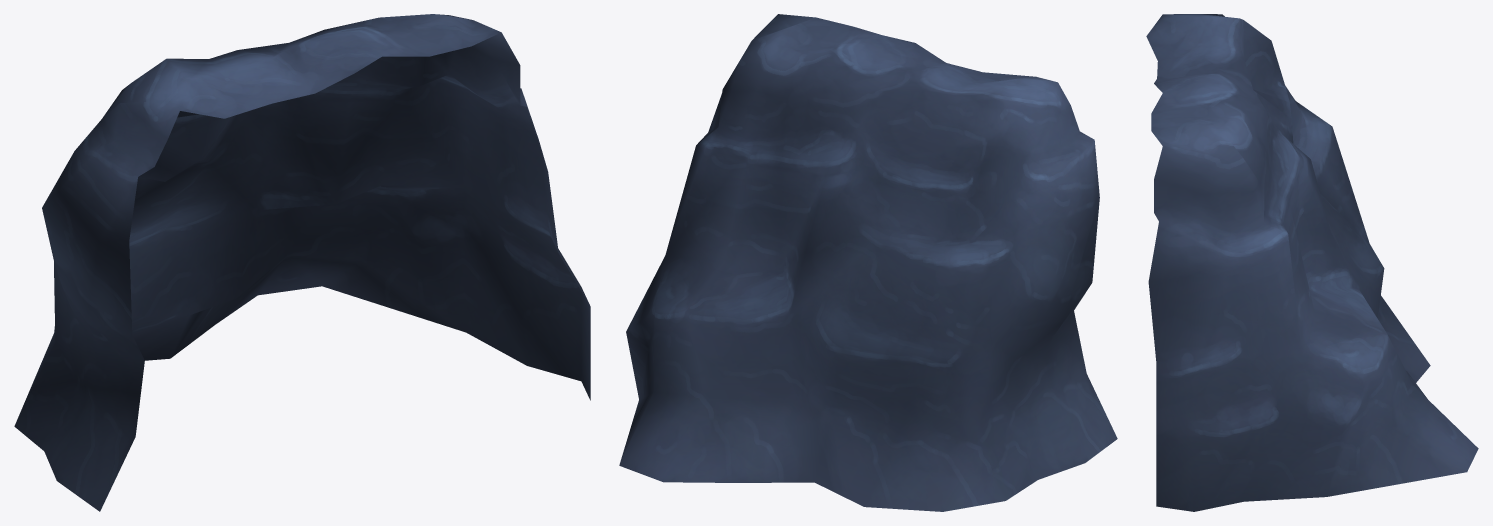
File: lm_cliff_01.fbx
The picture shows the model from 3 angles, left to right: view 1: azimuth 30°, elevation 25°; view 2: azimuth 150°, elevation 25°; view 3: azimuth 270°, elevation 25°; orthographic projection. The views are drawn at different scales.
Parts seen in each view (by area): view 1: lm_cliff_01; view 2: lm_cliff_01; view 3: lm_cliff_01.
Part boxes in pixels (x1=…): lm_cliff_01: x1=14, y1=14, x2=590, y2=511; lm_cliff_01: x1=619, y1=14, x2=1117, y2=511; lm_cliff_01: x1=1146, y1=14, x2=1478, y2=511.
Bounding box in the file's own units: 3.22 × 2.48 × 2.21.
